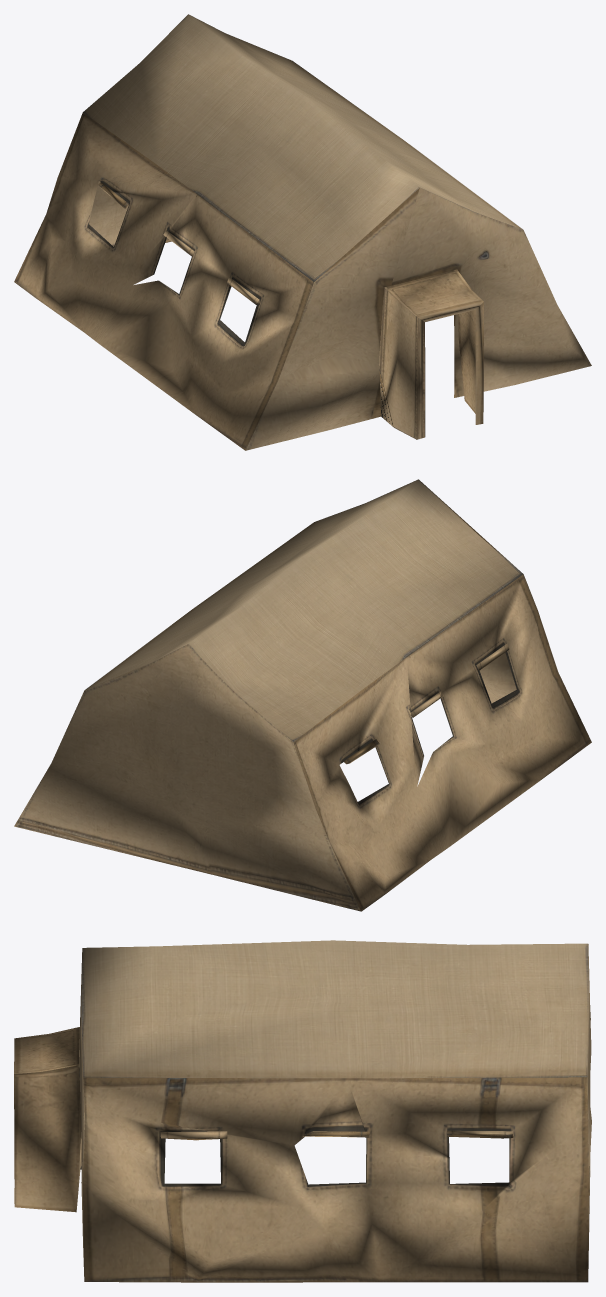
The model's file is tent_01_degen_lod1.fbx.
The picture shows the model from 3 angles, top to bottom: view 1: azimuth 30°, elevation 25°; view 2: azimuth 150°, elevation 25°; view 3: azimuth 270°, elevation 25°; orthographic projection. The views are drawn at different scales.
Parts seen in each view (by area): view 1: Military_tent.002; view 2: Military_tent.002; view 3: Military_tent.002.
Boxes of the visible parts, x1,y1,x2,y2 form: Military_tent.002: [14, 14, 591, 450]; Military_tent.002: [14, 479, 591, 911]; Military_tent.002: [14, 940, 591, 1282].
Bounding box in the file's own units: 626 × 392 × 822.
1 material, 1 textured.
